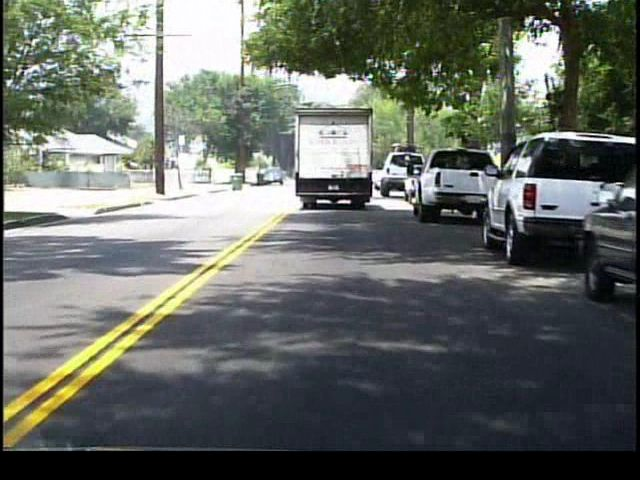person: (207, 162, 216, 183)
